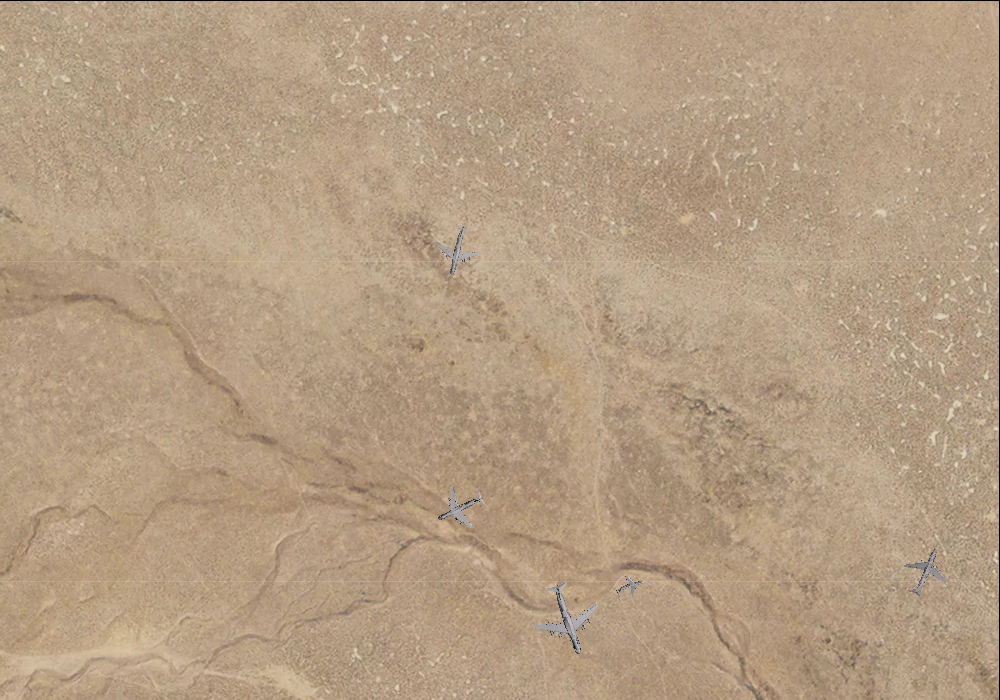plane: (522, 572, 612, 665), (427, 476, 493, 541), (893, 539, 957, 605), (428, 219, 486, 280), (611, 569, 648, 604)
